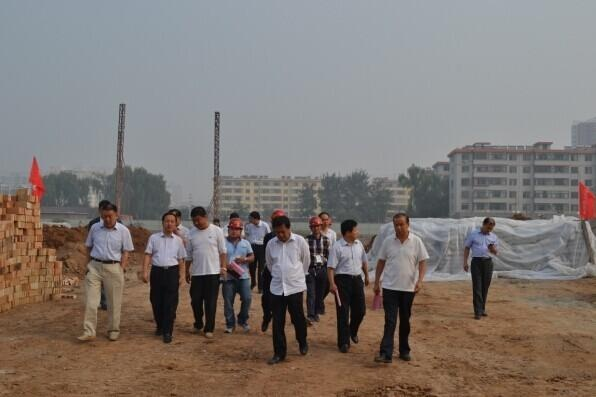none: (271, 214, 290, 242), (98, 202, 118, 228), (339, 217, 359, 242), (190, 205, 208, 230), (392, 211, 410, 236), (160, 210, 177, 234), (480, 216, 495, 233), (318, 211, 330, 230), (247, 210, 260, 226)
red: (224, 217, 244, 239), (307, 214, 322, 233)
